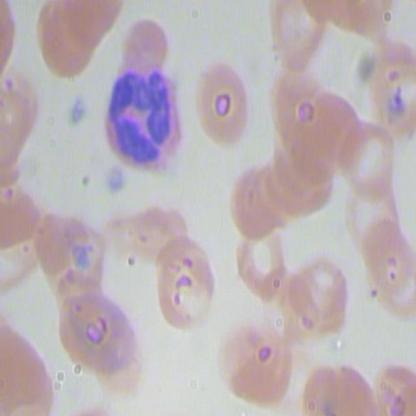Platelets: (66, 91, 91, 131)
RBC: (56, 280, 140, 379), (216, 316, 297, 411), (33, 206, 112, 296), (151, 237, 223, 328), (187, 57, 259, 148), (270, 137, 338, 224), (254, 139, 322, 225), (228, 158, 295, 244), (32, 1, 104, 80), (1, 317, 58, 415), (336, 118, 408, 195), (339, 171, 411, 248), (264, 1, 336, 77), (302, 88, 363, 172), (267, 56, 328, 140), (274, 116, 335, 200), (355, 215, 415, 299), (295, 354, 377, 415), (129, 192, 193, 268), (272, 270, 331, 352), (231, 218, 290, 299), (296, 256, 354, 337), (113, 14, 177, 83)
WBC: (103, 67, 185, 172)
